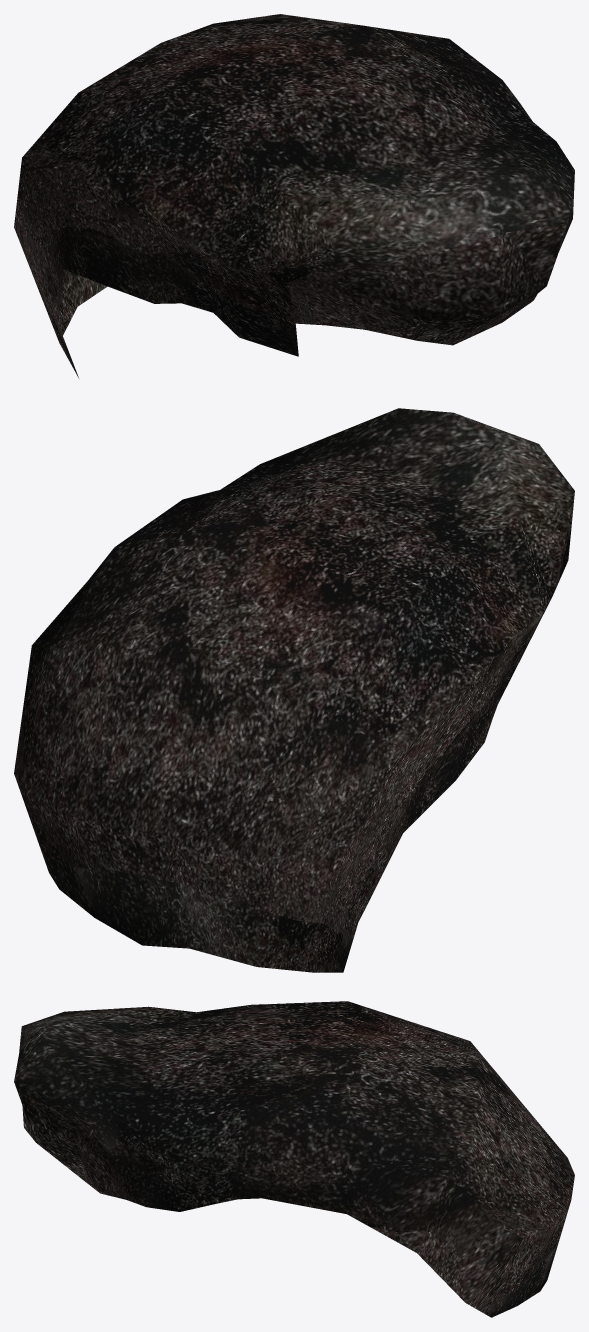
The model's file is pelo_01.FBX.
The picture shows the model from 3 angles, top to bottom: view 1: azimuth 30°, elevation 25°; view 2: azimuth 150°, elevation 25°; view 3: azimuth 270°, elevation 25°; orthographic projection. The views are drawn at different scales.
Parts seen in each view (by area): view 1: pelo_01; view 2: pelo_01; view 3: pelo_01.
Boxes of the visible parts, x1,y1,x2,y2 form: pelo_01: (14, 14, 574, 377); pelo_01: (14, 408, 574, 972); pelo_01: (14, 1001, 574, 1317).
Bounding box in the file's own units: 12.52 × 10.75 × 19.77.
